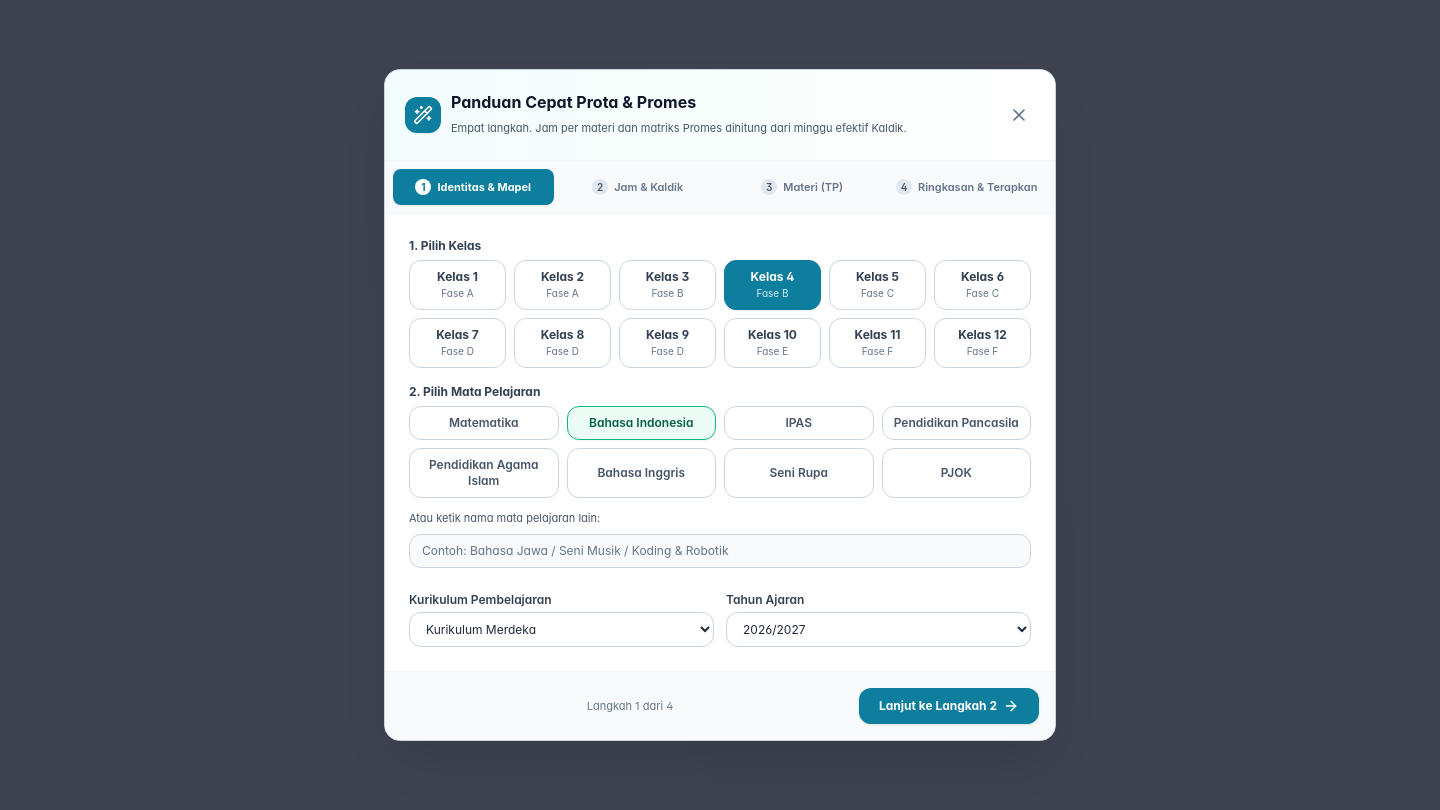
Test: ProtaPromesWizardModal › allows navigating backwards using the Sebelumnya button
The image size is (1440, 810).
Click the button "Lanjut ke Langkah 2": coordinates (949, 706) [859, 688, 1039, 724]
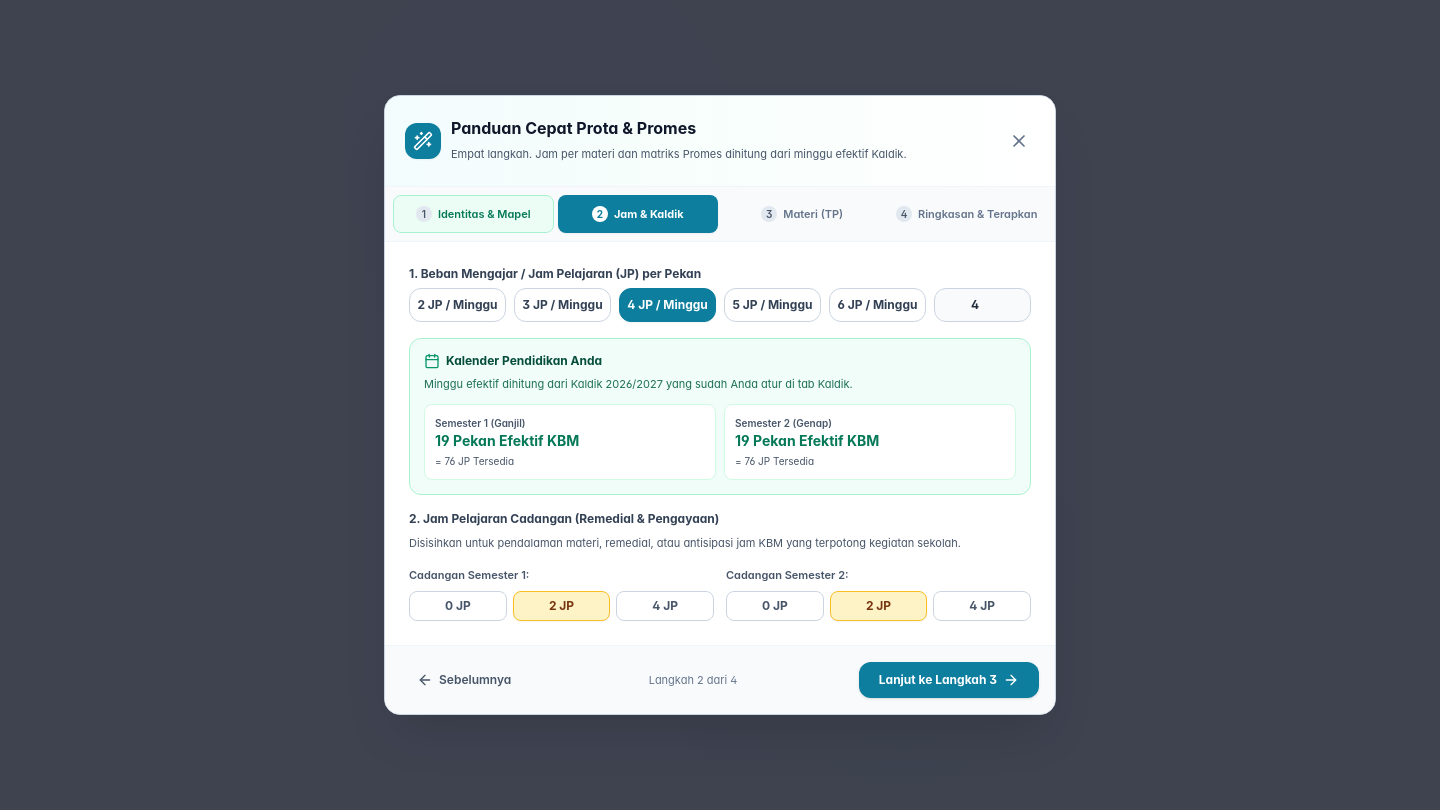
Expected: the text "1. Beban Mengajar / Jam Pelajaran (JP) per Pekan" is shown, [409, 266, 701, 281]
Click the button "Sebelumnya": coordinates (464, 680) [401, 664, 527, 696]
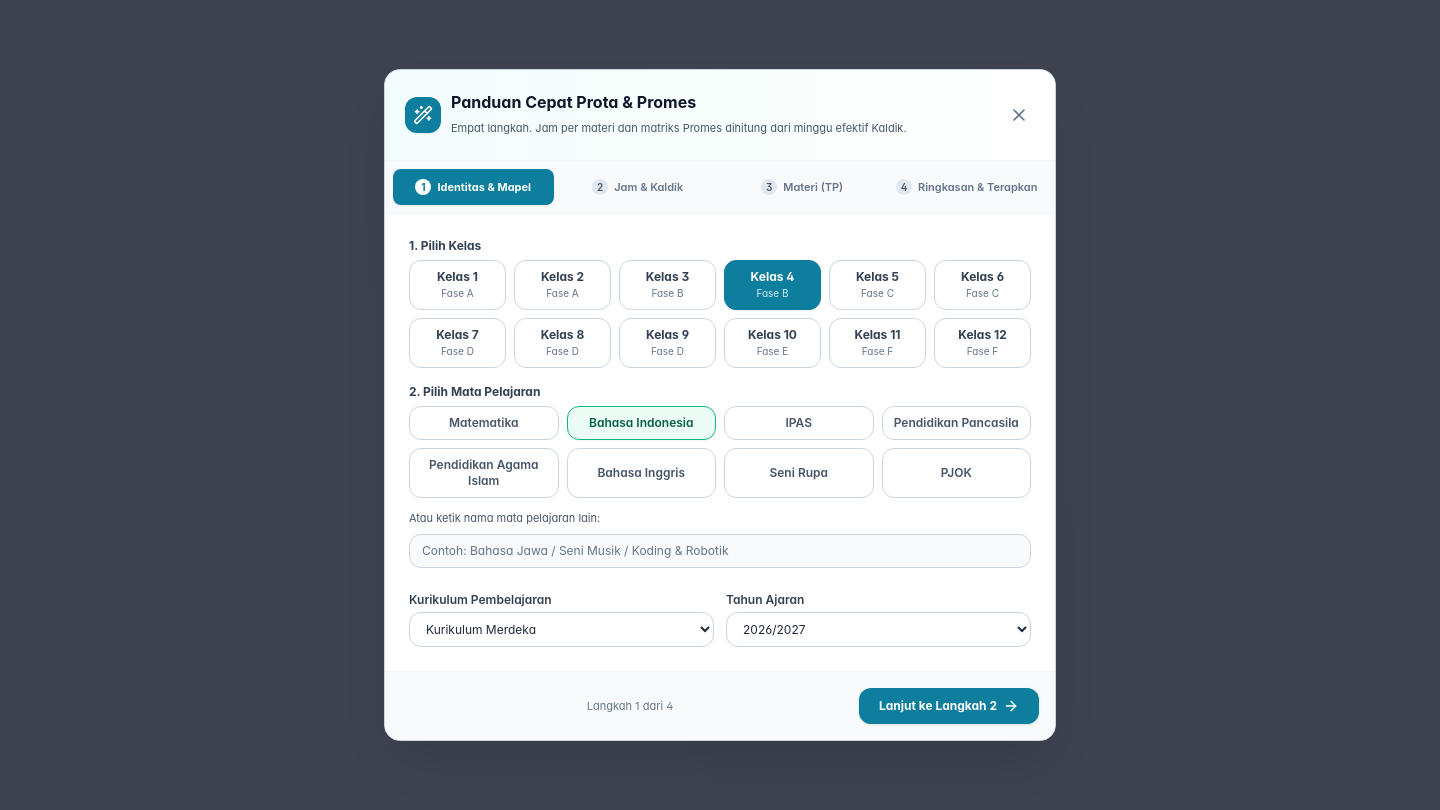
Expected: the text "1. Pilih Kelas" is shown, [409, 238, 481, 253]
